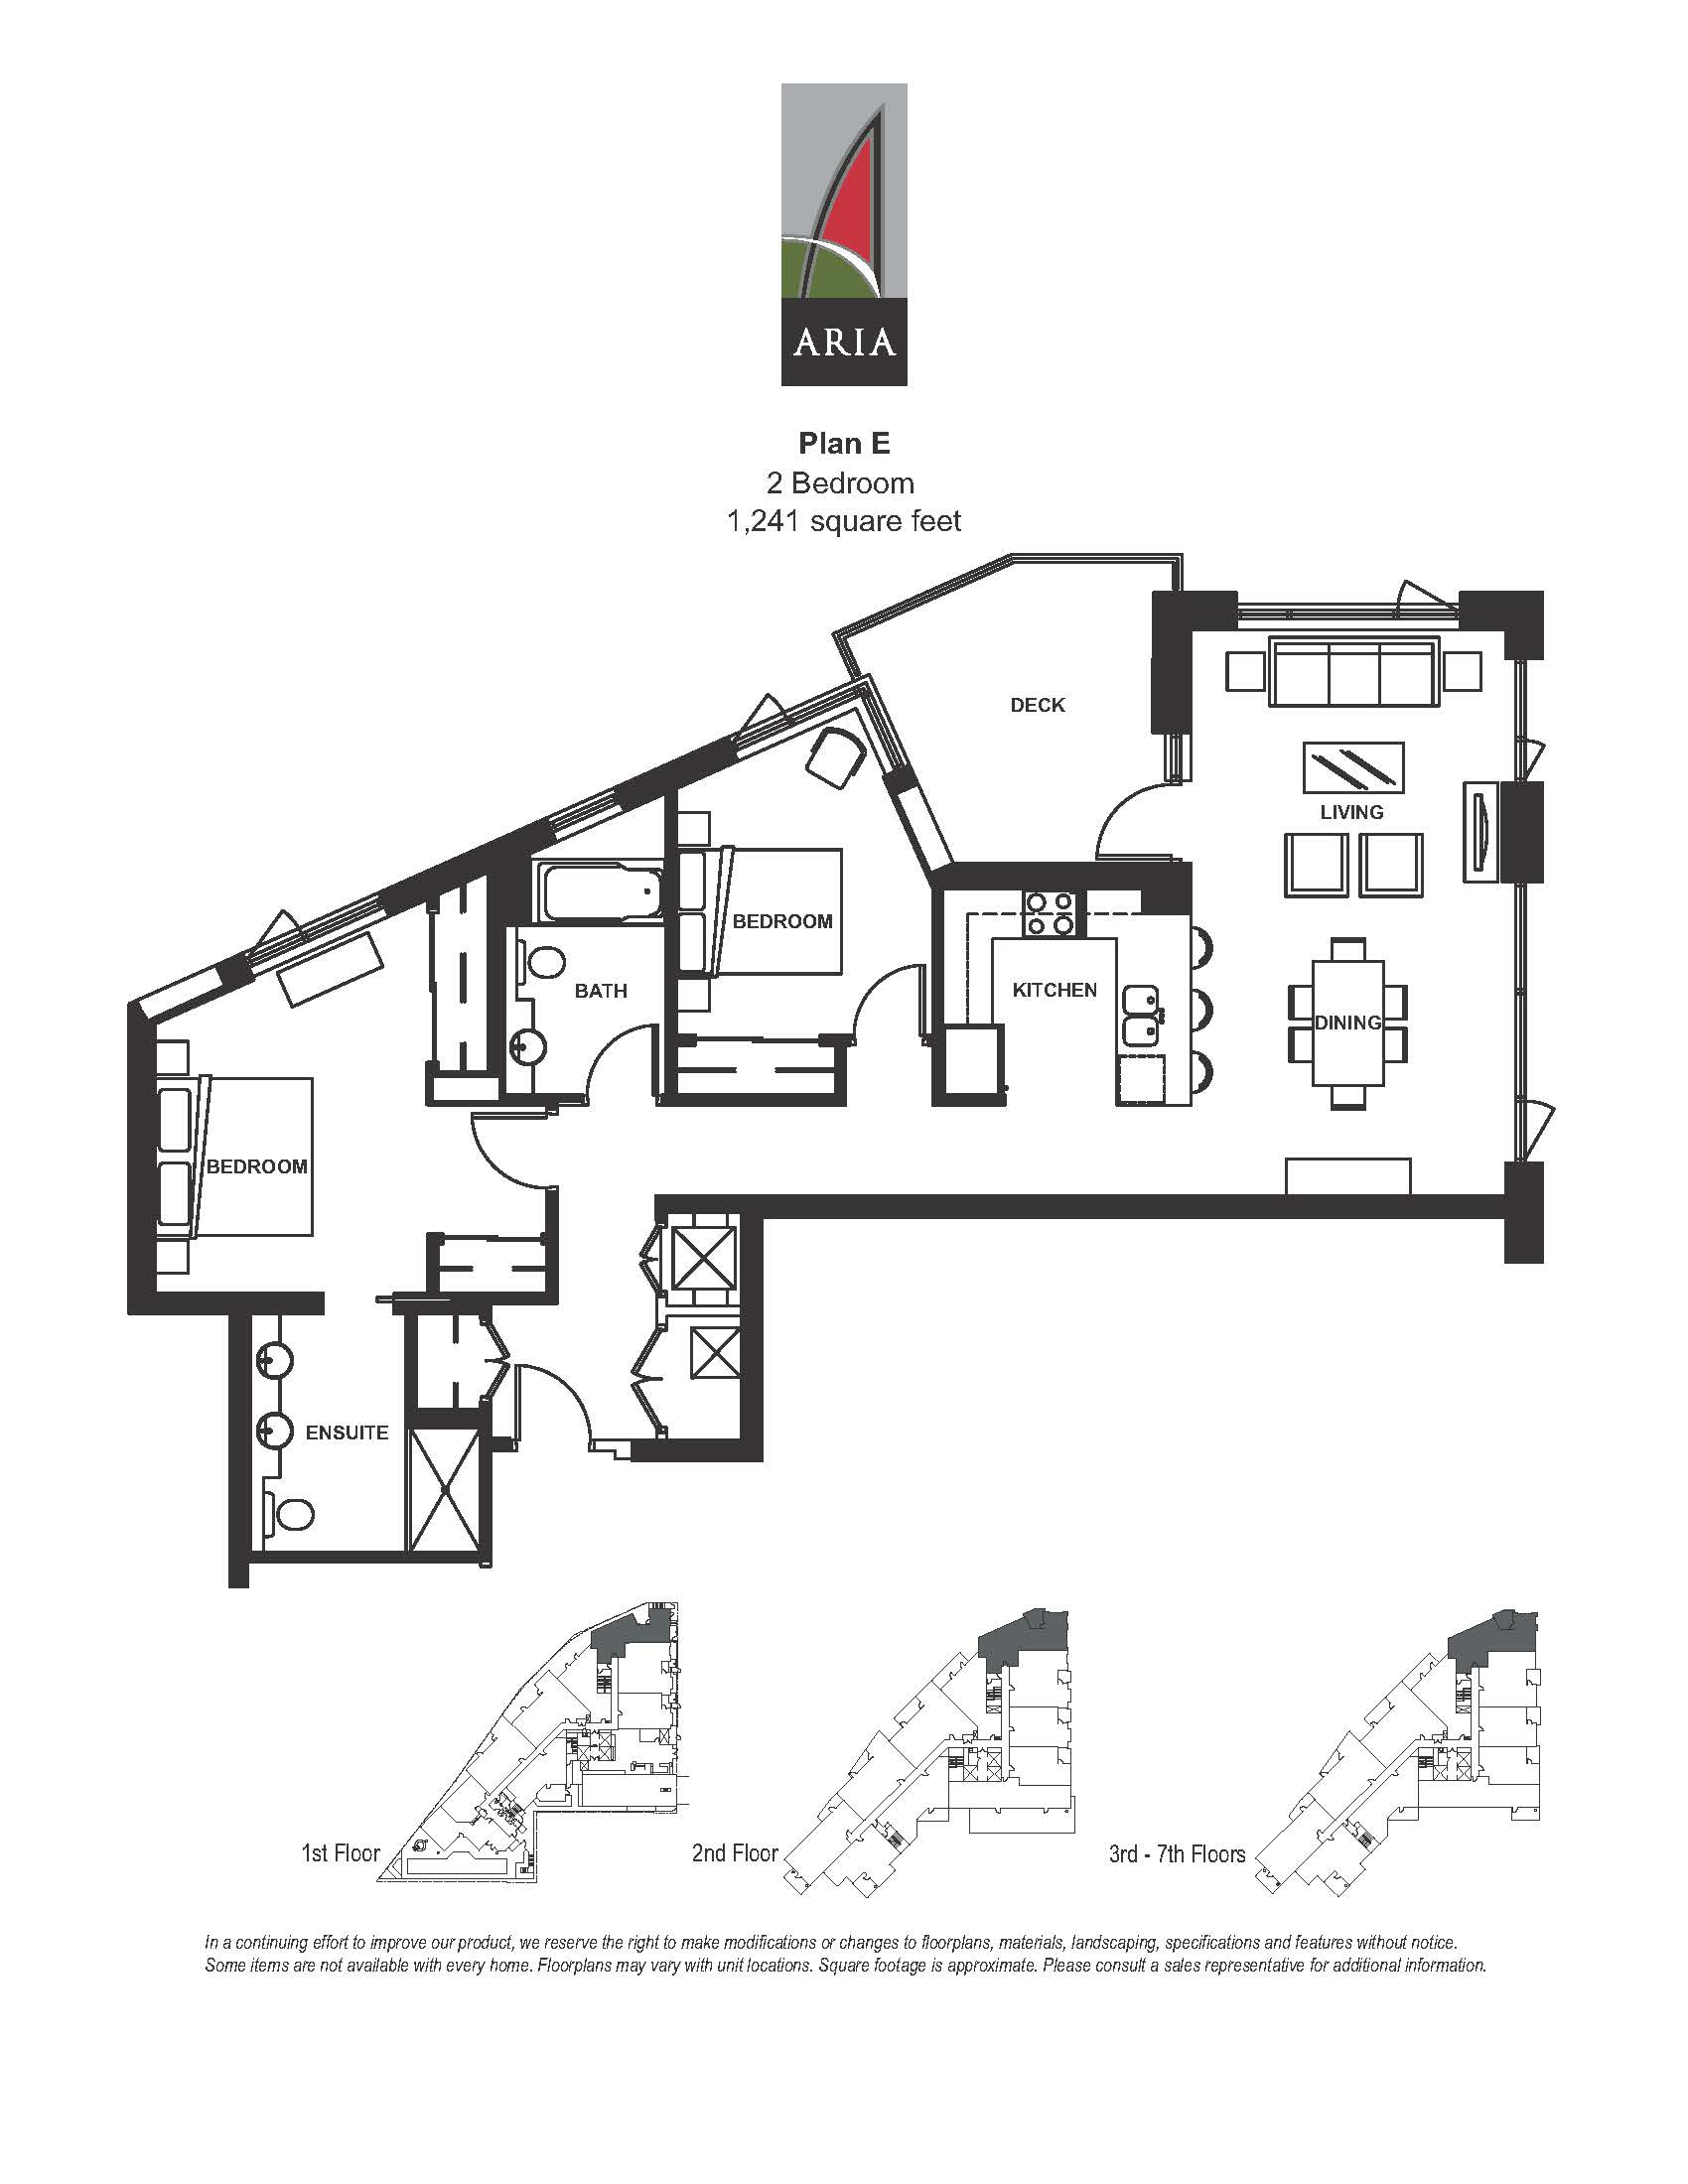door: (449, 1111, 553, 1197), (507, 1344, 589, 1429), (582, 1021, 670, 1099), (849, 963, 927, 1028)
